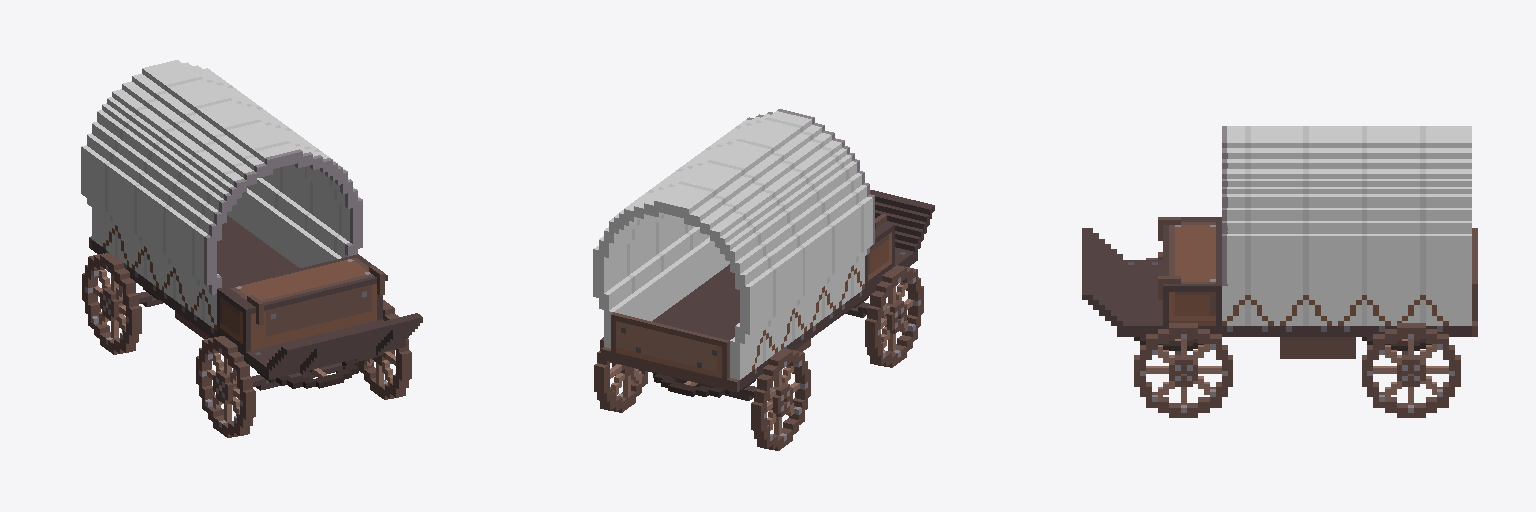
3 views of the same model, side by side, from view 1: azimuth 30°, elevation 25°; view 2: azimuth 150°, elevation 25°; view 3: azimuth 270°, elevation 25° (orthographic).
Parts seen in each view (by area): view 1: default; view 2: default; view 3: default.
Part boxes in pixels (left/top/right/bottom): default: left=81, top=60, right=422, bottom=437; default: left=593, top=109, right=934, bottom=450; default: left=1082, top=126, right=1477, bottom=417.
Size of the model in its own units: 33 by 46 by 68.
1 materials, 1 textured.